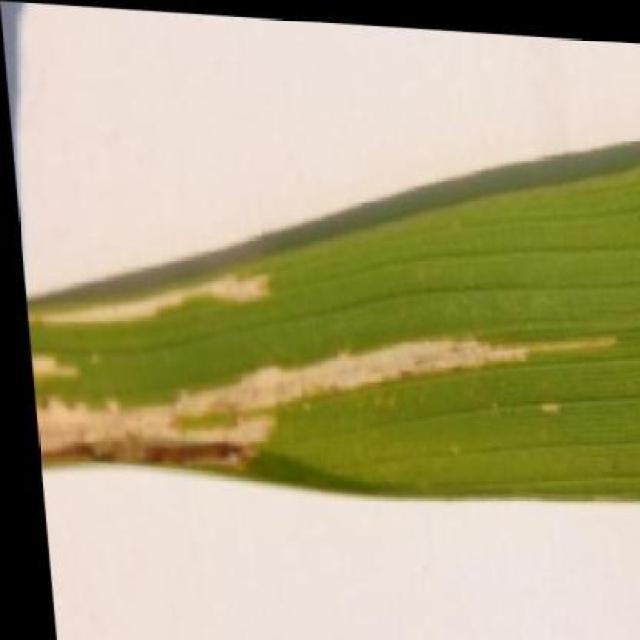Brown_Spot: (7, 112, 640, 516)
